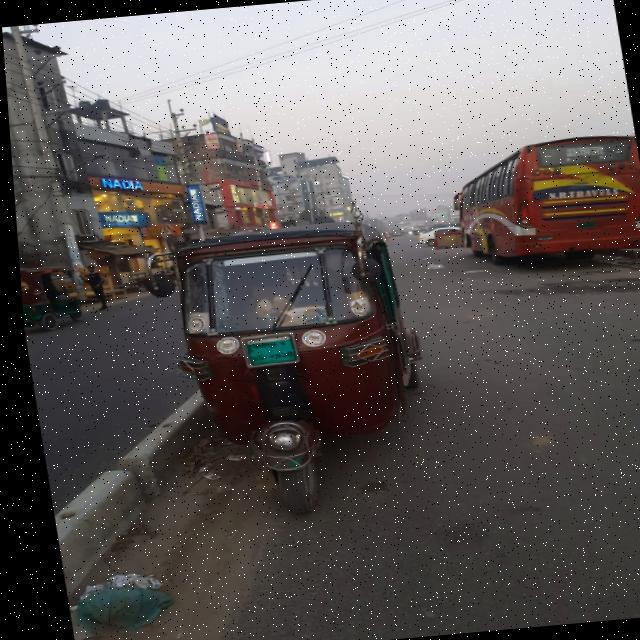cng: (156, 209, 438, 523)
